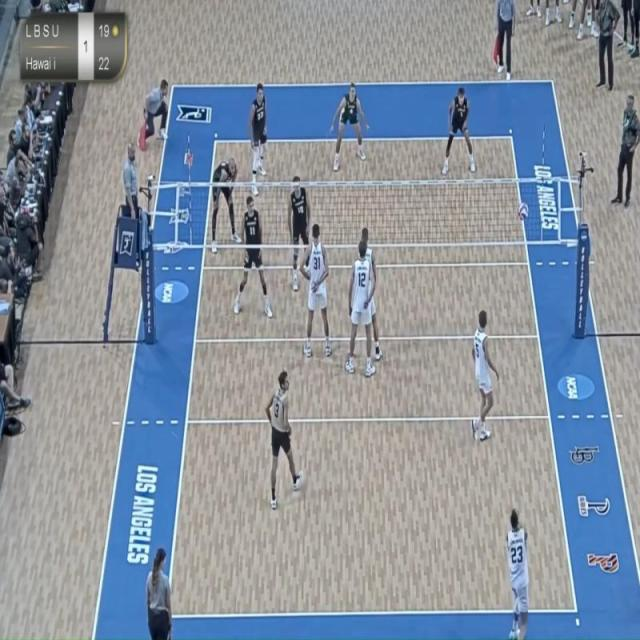volleyball: (516, 198, 532, 223)
